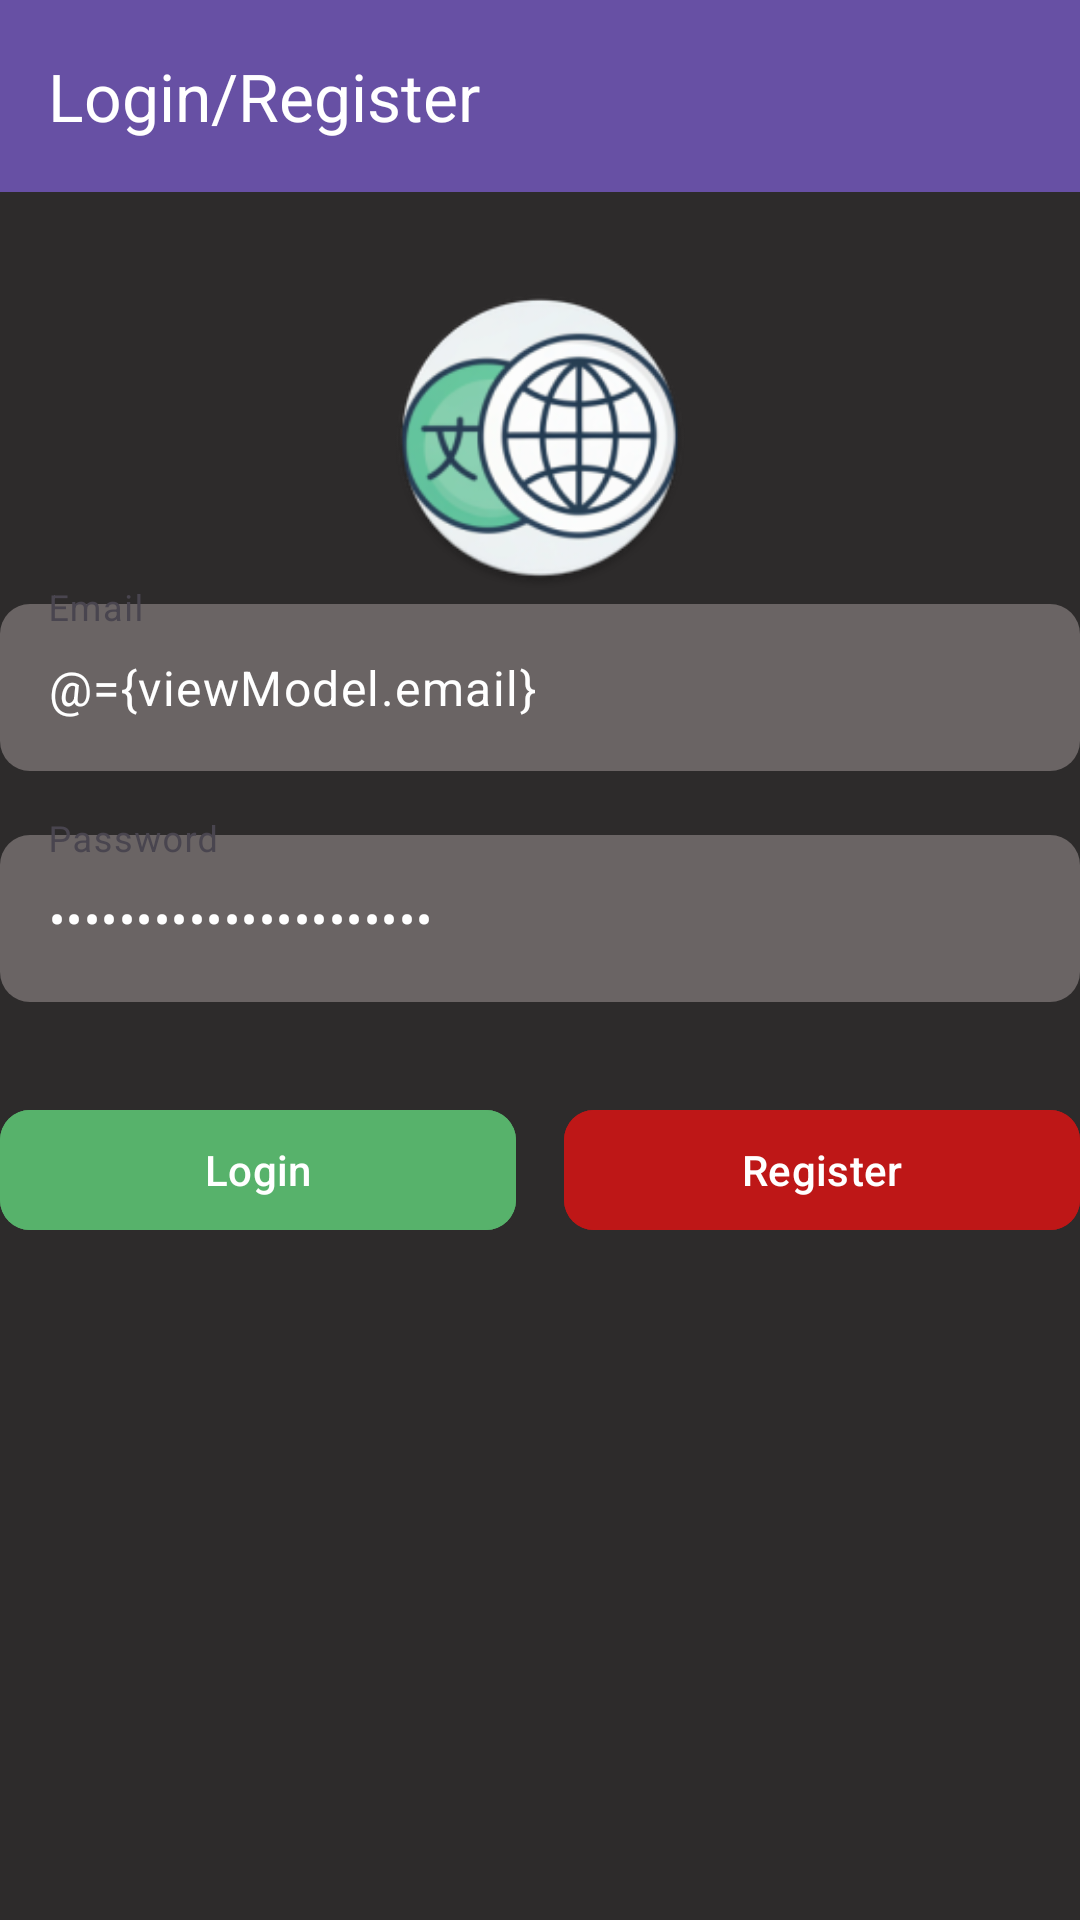

Icon click points for this 1080 × 1920 phone screenshot, format point (x, y):
translate round: point (539, 437)
